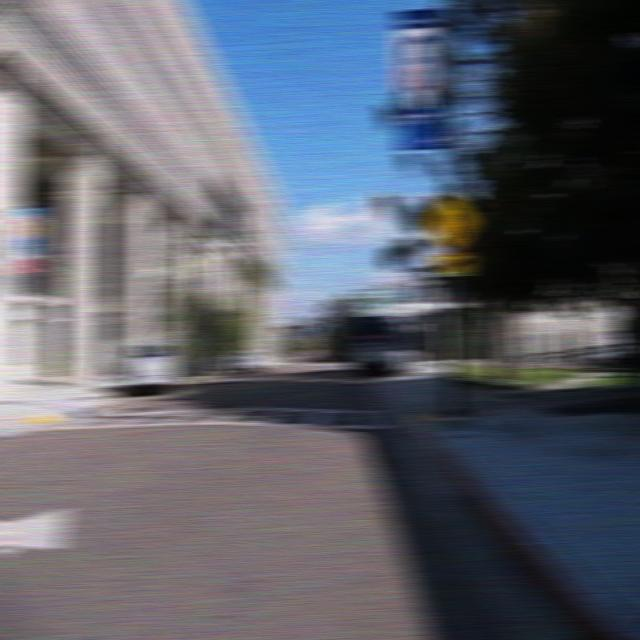pedestrianCrossing: (422, 189, 478, 255)
